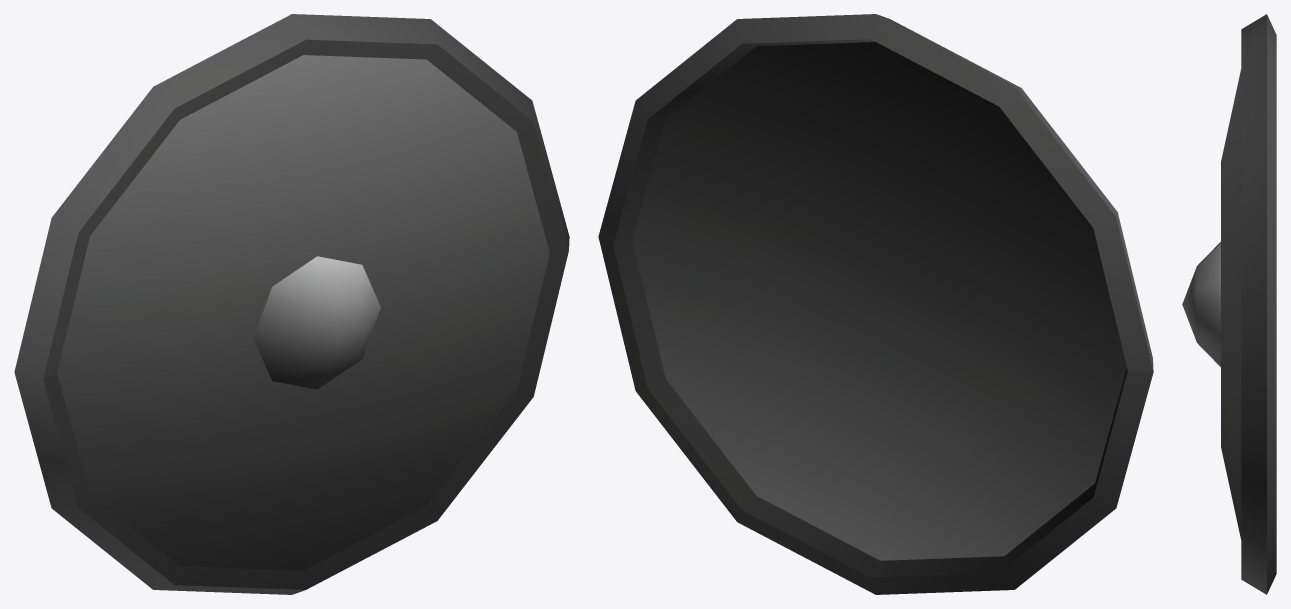
File: Shield1h_02.fbx
3 views of the same model, side by side, from view 1: azimuth 30°, elevation 25°; view 2: azimuth 150°, elevation 25°; view 3: azimuth 270°, elevation 25° (orthographic). The views are drawn at different scales.
Visible parts, largest first — view 1: Shield1h_02; view 2: Shield1h_02; view 3: Shield1h_02.
Part boxes in pixels (left/top/right/bottom): Shield1h_02: left=14, top=14, right=569, bottom=594; Shield1h_02: left=598, top=14, right=1153, bottom=594; Shield1h_02: left=1182, top=14, right=1276, bottom=594.
Bounding box in the file's own units: 53.9 × 53.9 × 8.74.
